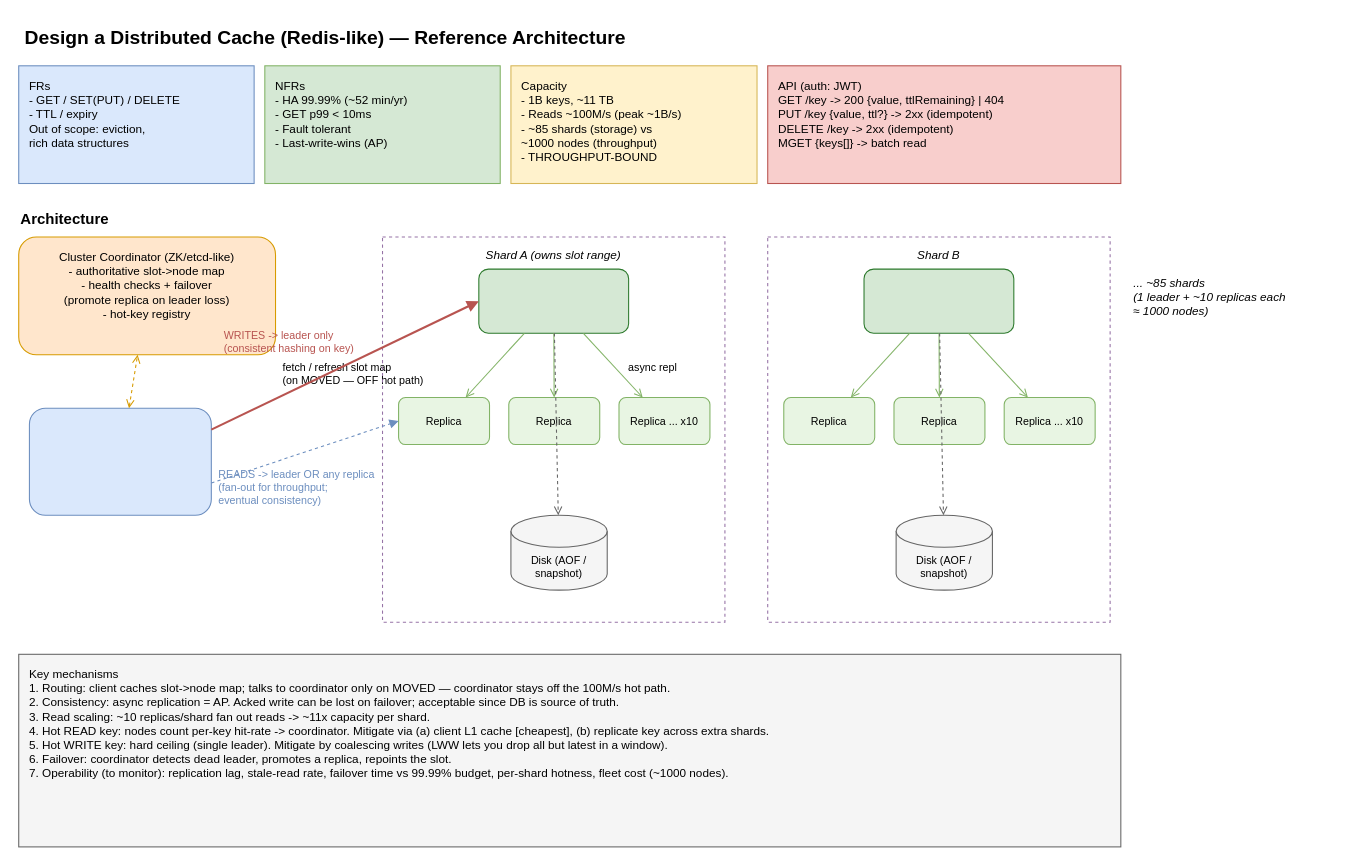
The diagram is 1364 pixels wide and 866 high, and some of its shapes have lost their labels. Here are the shapes that lost their labels. From the top down, the centre of each, then its label:
At (x=553, y=300): "LEADER A in-mem KV".
At (x=938, y=300): "LEADER B in-mem KV".
At (x=119, y=461): "App Client + L1 local cache (hot keys, short TTL) + cached slot->node map".
